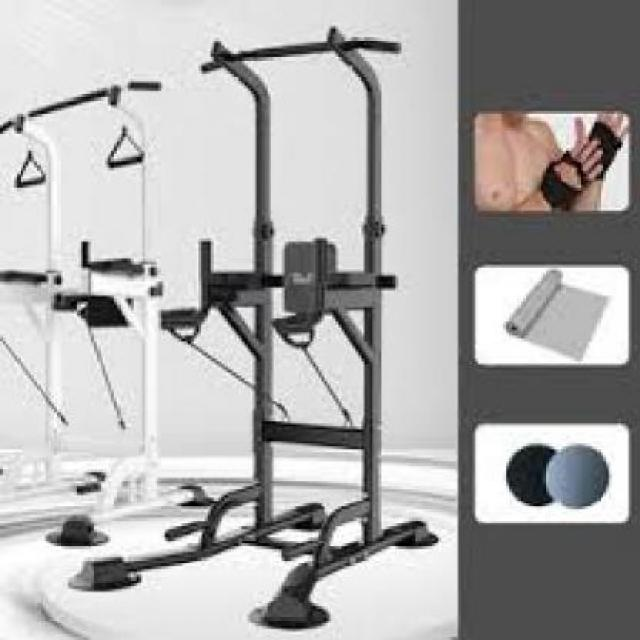chinning dipping: (156, 26, 438, 629), (0, 77, 160, 543)
